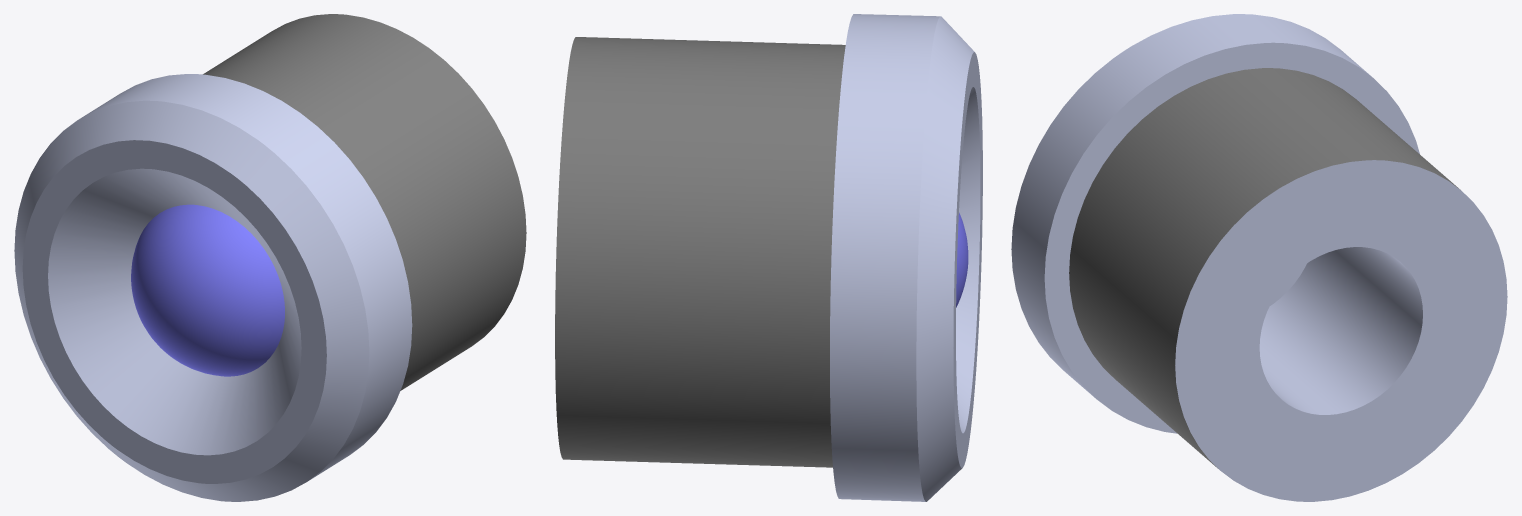
The model's file is Default__12_STEP_1_RP_lidar_A1_igs_STEP_1_detector_igs_STEP_1_solid1.obj.
3 views of the same model, side by side, from view 1: azimuth 30°, elevation 25°; view 2: azimuth 150°, elevation 25°; view 3: azimuth 270°, elevation 25° (orthographic). The views are drawn at different scales.
Parts seen in each view (by area): view 1: mesh4, mesh9, mesh7, mesh8, mesh6, mesh10; view 2: mesh4, mesh6, mesh7, mesh9, mesh8, mesh10; view 3: mesh3, mesh4, mesh2, mesh6, mesh5.
Part boxes in pixels (x1,y1,x2,y2): mesh4: (203, 14, 526, 390); mesh9: (48, 168, 301, 455); mesh7: (14, 100, 369, 501); mesh8: (22, 140, 326, 483); mesh6: (80, 74, 412, 480); mesh10: (131, 204, 284, 376); mesh4: (555, 37, 845, 467); mesh6: (830, 14, 939, 501); mesh7: (916, 16, 974, 501); mesh9: (956, 87, 980, 433); mesh8: (953, 52, 982, 467); mesh10: (956, 212, 968, 307); mesh3: (1175, 160, 1507, 501); mesh4: (1069, 68, 1460, 468); mesh2: (1259, 247, 1422, 414); mesh6: (1011, 14, 1371, 397); mesh5: (1044, 42, 1419, 433).
Bounding box in the file's own units: 0.0156 × 0.014 × 0.0164.
